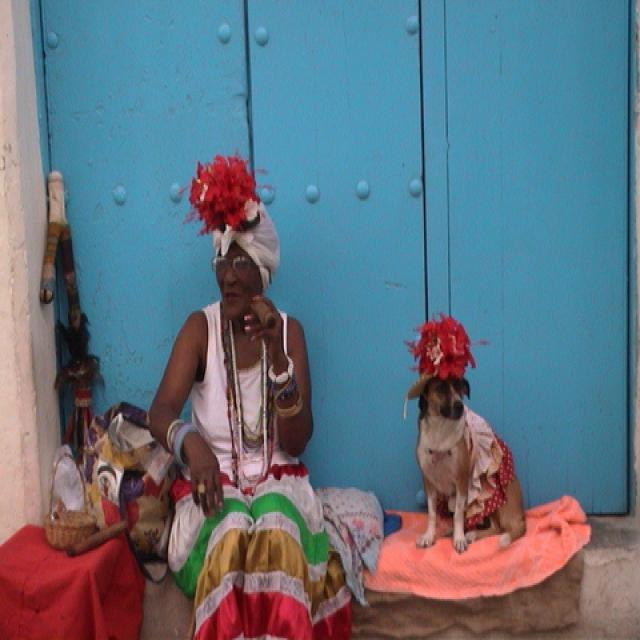dog: (417, 374, 526, 554)
person: (148, 154, 329, 639)
